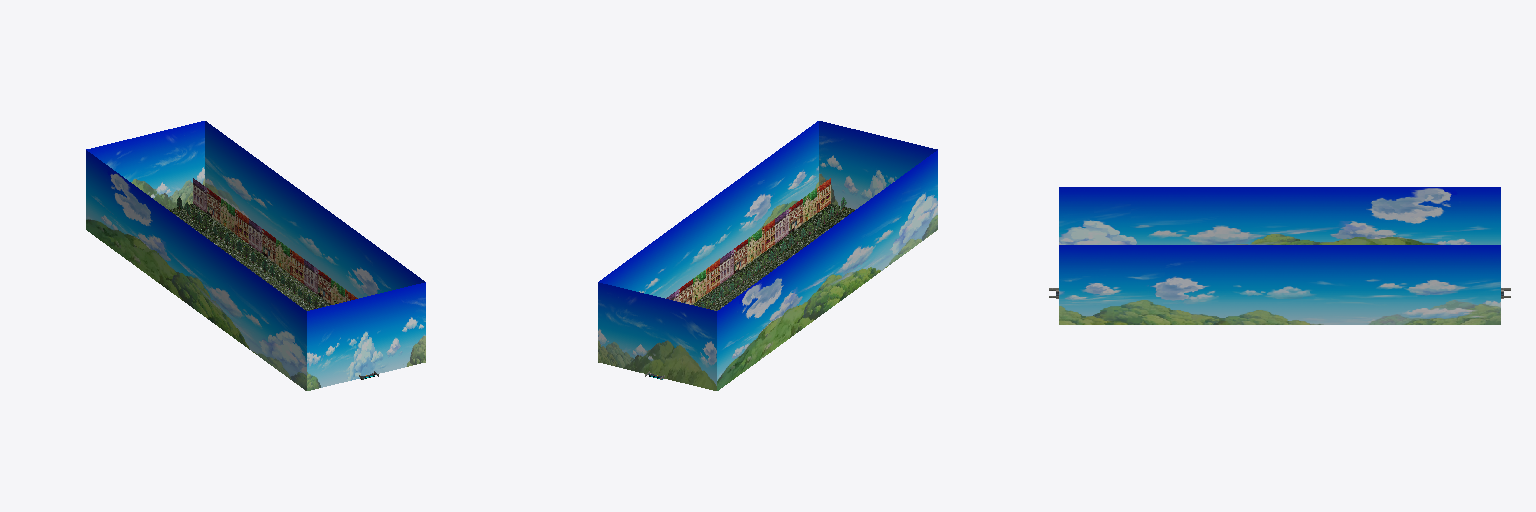
3 renders of one model, left to right at view 1: azimuth 30°, elevation 25°; view 2: azimuth 150°, elevation 25°; view 3: azimuth 270°, elevation 25°, orthographic.
Visible parts, largest first — view 1: Plane.006, Plane.002, Plane, Plane.001; view 2: Plane.006, Plane.002, Plane, Plane.001; view 3: Plane.006.
Boxes of the visible parts, <box> form: Plane.006: <box>86,121,425,390</box>; Plane.002: <box>193,178,357,304</box>; Plane: <box>169,204,330,310</box>; Plane.001: <box>177,196,323,308</box>; Plane.006: <box>598,121,937,390</box>; Plane.002: <box>666,178,830,304</box>; Plane: <box>693,204,854,310</box>; Plane.001: <box>695,197,846,308</box>; Plane.006: <box>1059,187,1500,324</box>.
Size of the model in its own units: 12.48 by 8.02 by 41.87.
Materials: 49 (7 with a texture image).